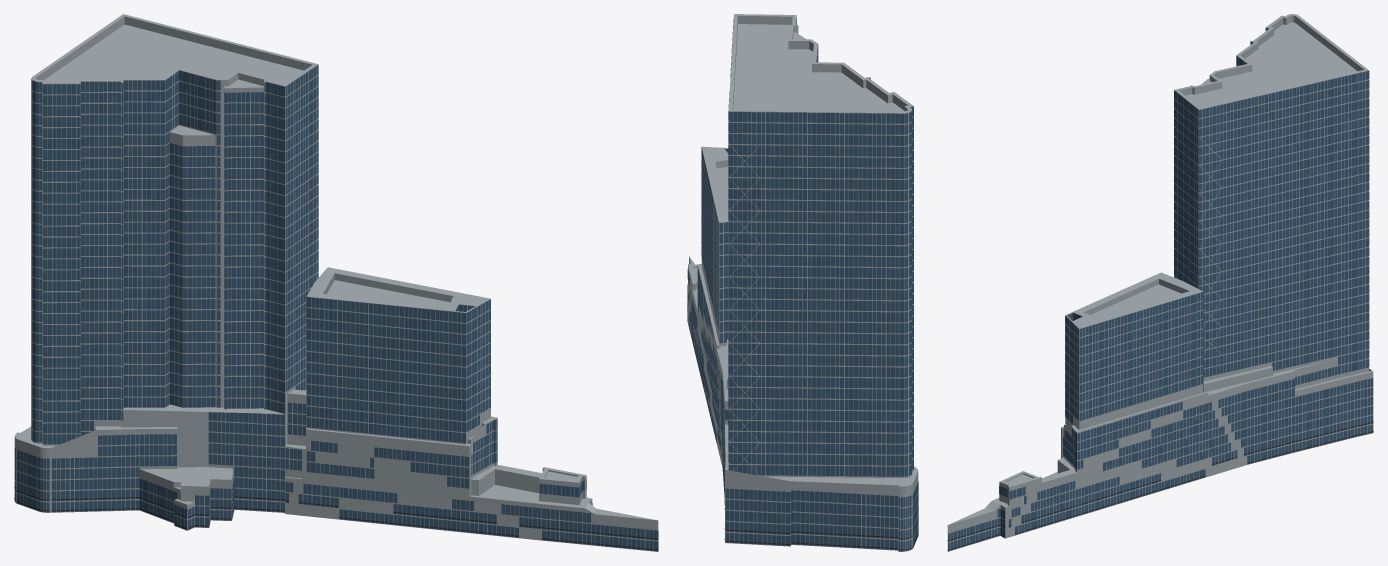
File: sakura-stage.glb
The picture shows the model from 3 angles, left to right: view 1: azimuth 30°, elevation 25°; view 2: azimuth 150°, elevation 25°; view 3: azimuth 270°, elevation 25°; orthographic projection. The views are drawn at different scales.
Parts seen in each view (by area): view 1: sakura-stage_wall, sakura-stage_glass1, sakura-stage_glass2, sakura-stage_glass0, sakura-stage_roof, sakura-stage_frame, sakura-stage_spandrel, sakura-stage_sign_housing; view 2: sakura-stage_glass1, sakura-stage_wall, sakura-stage_glass2, sakura-stage_glass0, sakura-stage_roof, sakura-stage_frame, sakura-stage_spandrel, sakura-stage_sign_housing; view 3: sakura-stage_wall, sakura-stage_glass1, sakura-stage_glass0, sakura-stage_glass2, sakura-stage_roof, sakura-stage_frame, sakura-stage_spandrel, sakura-stage_sign_housing.
Part boxes in pixels (<box>): sakura-stage_wall: <box>14,16,658,551</box>; sakura-stage_glass1: <box>15,65,658,551</box>; sakura-stage_glass2: <box>14,68,653,550</box>; sakura-stage_glass0: <box>14,71,653,549</box>; sakura-stage_roof: <box>15,14,656,520</box>; sakura-stage_frame: <box>16,66,658,550</box>; sakura-stage_spandrel: <box>15,75,657,551</box>; sakura-stage_sign_housing: <box>14,487,658,550</box>; sakura-stage_glass1: <box>688,18,918,551</box>; sakura-stage_wall: <box>687,15,918,551</box>; sakura-stage_glass2: <box>688,26,918,549</box>; sakura-stage_glass0: <box>687,32,918,551</box>; sakura-stage_roof: <box>687,14,918,486</box>; sakura-stage_frame: <box>688,26,908,551</box>; sakura-stage_spandrel: <box>719,116,918,551</box>; sakura-stage_sign_housing: <box>687,309,918,550</box>; sakura-stage_wall: <box>947,15,1373,551</box>; sakura-stage_glass1: <box>954,28,1373,549</box>; sakura-stage_glass0: <box>948,56,1373,551</box>; sakura-stage_glass2: <box>951,71,1373,545</box>; sakura-stage_roof: <box>949,14,1372,524</box>; sakura-stage_frame: <box>947,57,1367,551</box>; sakura-stage_spandrel: <box>948,64,1372,551</box>; sakura-stage_sign_housing: <box>947,422,1373,550</box>.
Size of the model in its own units: 195 by 184 by 196.
